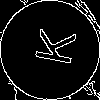K: (25, 25, 76, 67)
